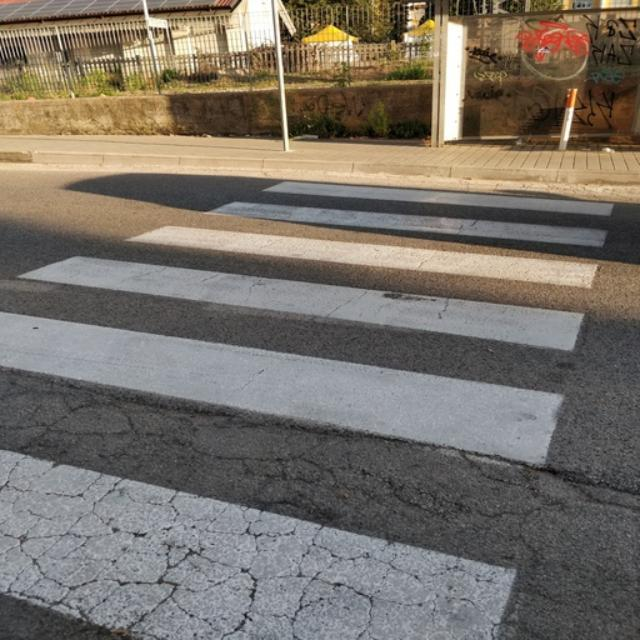sidewalk: (0, 172, 616, 640)
